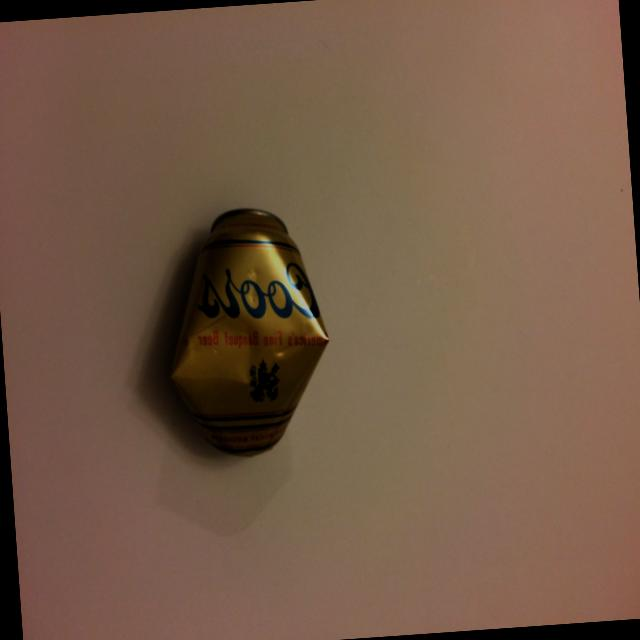Metal: (152, 193, 344, 467)
